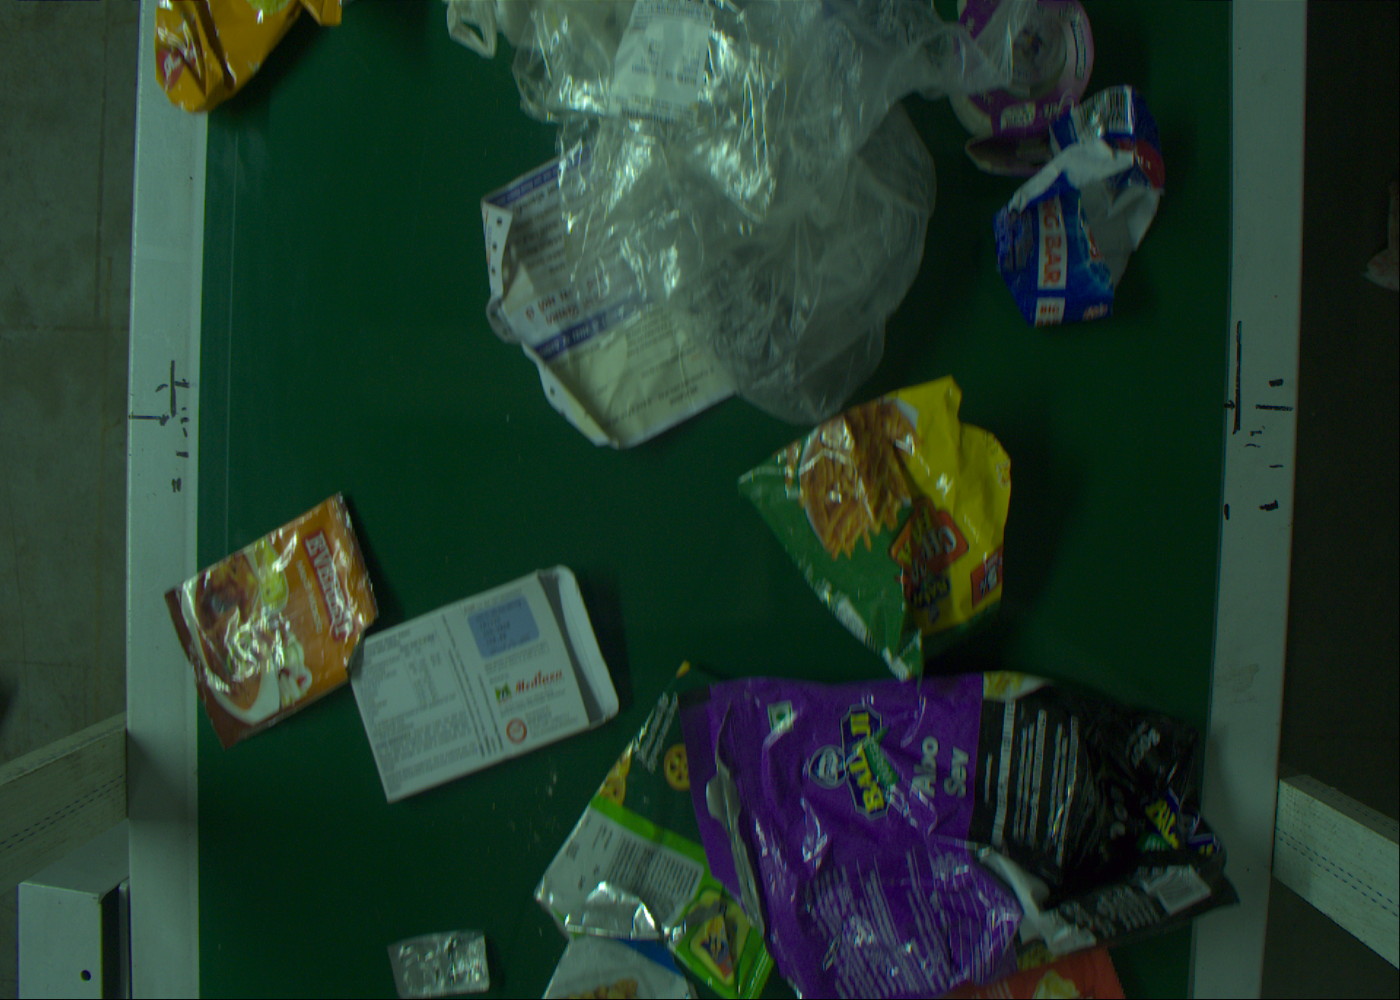cardboard: (347, 569, 624, 795)
hm_ldpe: (590, 1, 965, 259)
multilayer_plastic: (706, 688, 1209, 1000), (743, 374, 1020, 653), (550, 685, 785, 997), (164, 503, 381, 744)
paper: (487, 166, 706, 434)
pp_w: (999, 111, 1172, 342)
